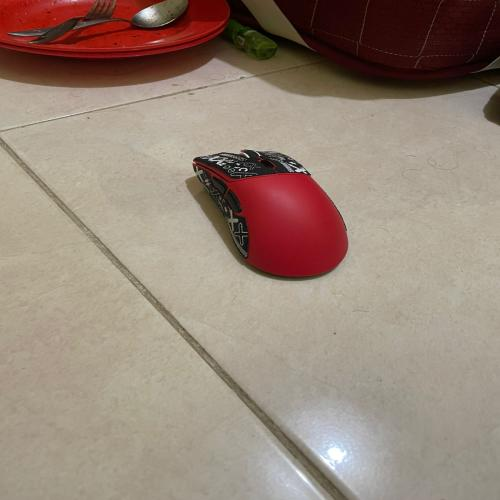mouse: (180, 134, 370, 294)
